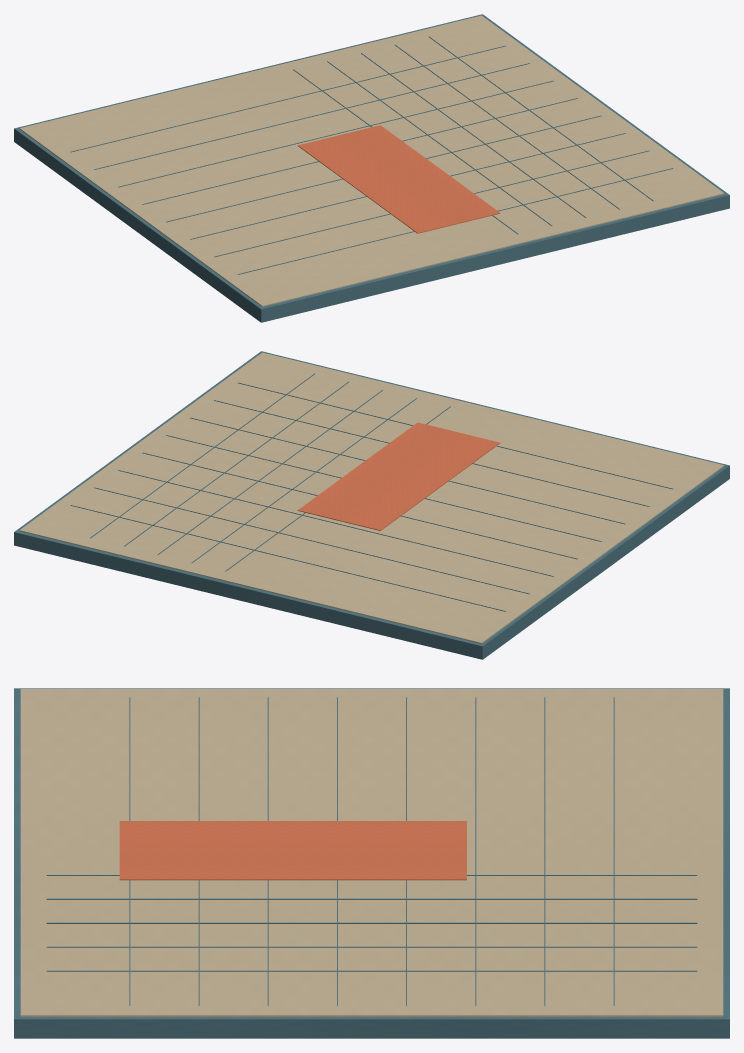
The model's file is atlas100-s043-a07.lod2.glb.
The picture shows the model from 3 angles, top to bottom: view 1: azimuth 30°, elevation 25°; view 2: azimuth 150°, elevation 25°; view 3: azimuth 270°, elevation 25°; orthographic projection. The views are drawn at different scales.
Visible parts, largest first — view 1: atlas100-s043-a07:part-001, atlas100-s043-a07:part-000, atlas100-s043-a07:part-021, atlas100-s043-a07:part-015, atlas100-s043-a07:part-013, atlas100-s043-a07:part-014, atlas100-s043-a07:part-017, atlas100-s043-a07:part-016, atlas100-s043-a07:part-018, atlas100-s043-a07:part-019, atlas100-s043-a07:part-020; view 2: atlas100-s043-a07:part-001, atlas100-s043-a07:part-000, atlas100-s043-a07:part-021, atlas100-s043-a07:part-013, atlas100-s043-a07:part-014, atlas100-s043-a07:part-015, atlas100-s043-a07:part-016, atlas100-s043-a07:part-018, atlas100-s043-a07:part-019, atlas100-s043-a07:part-017, atlas100-s043-a07:part-020; view 3: atlas100-s043-a07:part-001, atlas100-s043-a07:part-000, atlas100-s043-a07:part-021, atlas100-s043-a07:part-009, atlas100-s043-a07:part-011, atlas100-s043-a07:part-012, atlas100-s043-a07:part-010, atlas100-s043-a07:part-013, atlas100-s043-a07:part-014, atlas100-s043-a07:part-015.
Boxes of the visible parts, bbox=[...] form: atlas100-s043-a07:part-001: bbox=[19, 15, 724, 306]; atlas100-s043-a07:part-000: bbox=[14, 14, 729, 322]; atlas100-s043-a07:part-021: bbox=[297, 125, 500, 233]; atlas100-s043-a07:part-015: bbox=[118, 80, 553, 187]; atlas100-s043-a07:part-013: bbox=[71, 45, 505, 152]; atlas100-s043-a07:part-014: bbox=[94, 63, 529, 169]; atlas100-s043-a07:part-017: bbox=[166, 115, 601, 222]; atlas100-s043-a07:part-016: bbox=[142, 98, 577, 204]; atlas100-s043-a07:part-018: bbox=[190, 133, 625, 239]; atlas100-s043-a07:part-019: bbox=[214, 150, 649, 257]; atlas100-s043-a07:part-020: bbox=[238, 168, 673, 274]; atlas100-s043-a07:part-001: bbox=[19, 352, 724, 643]; atlas100-s043-a07:part-000: bbox=[14, 351, 729, 659]; atlas100-s043-a07:part-021: bbox=[297, 422, 500, 530]; atlas100-s043-a07:part-013: bbox=[70, 505, 505, 611]; atlas100-s043-a07:part-014: bbox=[94, 487, 529, 594]; atlas100-s043-a07:part-015: bbox=[118, 470, 553, 576]; atlas100-s043-a07:part-016: bbox=[142, 452, 577, 559]; atlas100-s043-a07:part-018: bbox=[190, 417, 625, 524]; atlas100-s043-a07:part-019: bbox=[214, 400, 649, 506]; atlas100-s043-a07:part-017: bbox=[166, 435, 601, 541]; atlas100-s043-a07:part-020: bbox=[238, 382, 672, 489]; atlas100-s043-a07:part-001: bbox=[20, 689, 723, 1016]; atlas100-s043-a07:part-000: bbox=[14, 688, 729, 1038]; atlas100-s043-a07:part-021: bbox=[119, 821, 466, 880]; atlas100-s043-a07:part-009: bbox=[46, 898, 697, 899]; atlas100-s043-a07:part-011: bbox=[46, 946, 697, 947]; atlas100-s043-a07:part-012: bbox=[46, 970, 697, 971]; atlas100-s043-a07:part-010: bbox=[46, 922, 697, 923]; atlas100-s043-a07:part-013: bbox=[613, 697, 614, 1005]; atlas100-s043-a07:part-014: bbox=[544, 697, 545, 1005]; atlas100-s043-a07:part-015: bbox=[475, 697, 476, 1005].
Bounding box in the file's own units: 12.46 × 0.404 × 11.39.
3 materials, 3 textured.
